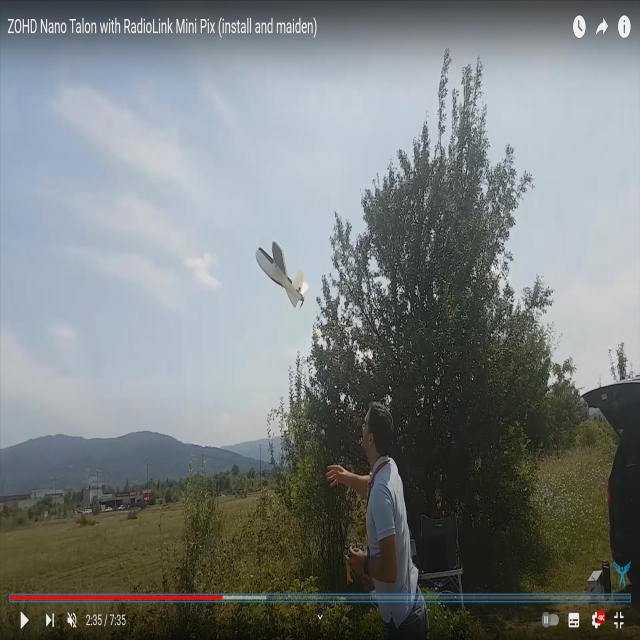iha: (256, 271, 305, 274)
